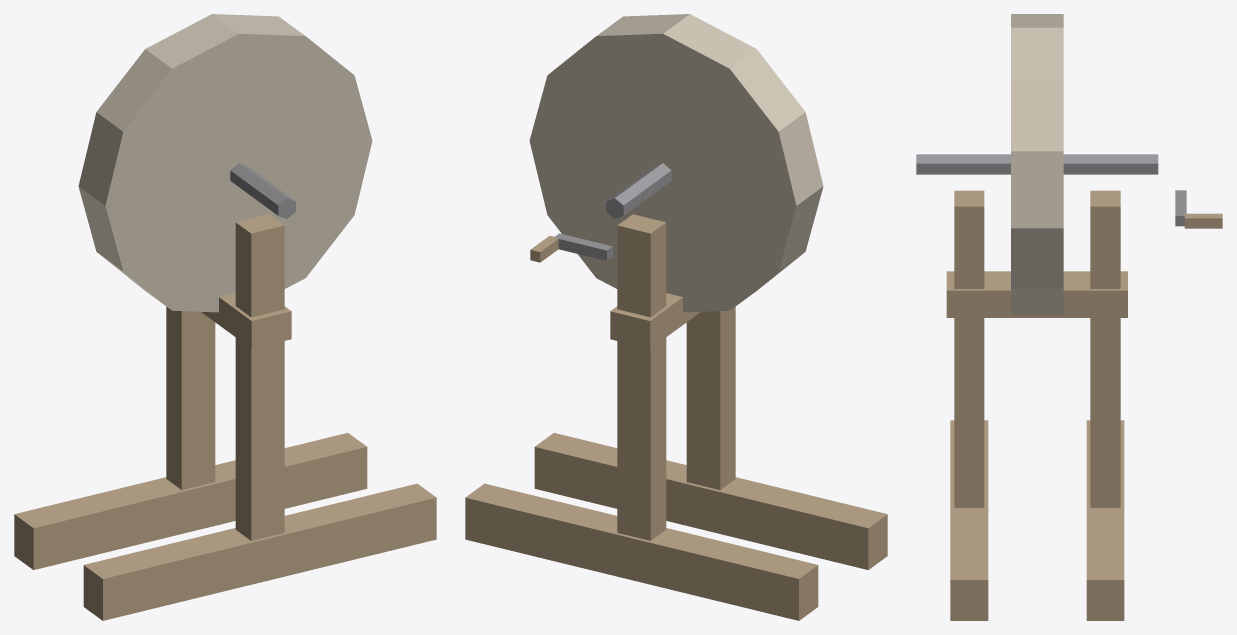
The model's file is prop-grindstone-small-cu1.fbx.
The picture shows the model from 3 angles, left to right: view 1: azimuth 30°, elevation 25°; view 2: azimuth 150°, elevation 25°; view 3: azimuth 270°, elevation 25°; orthographic projection. The views are drawn at different scales.
Parts seen in each view (by area): view 1: prop-grindstone-small-cu1; view 2: prop-grindstone-small-cu1; view 3: prop-grindstone-small-cu1.
Part boxes in pixels (<box>): prop-grindstone-small-cu1: <box>14,14,436,620</box>; prop-grindstone-small-cu1: <box>465,14,887,620</box>; prop-grindstone-small-cu1: <box>916,14,1222,620</box>.
Bounding box in the file's own units: 50 × 75 × 40.5.
